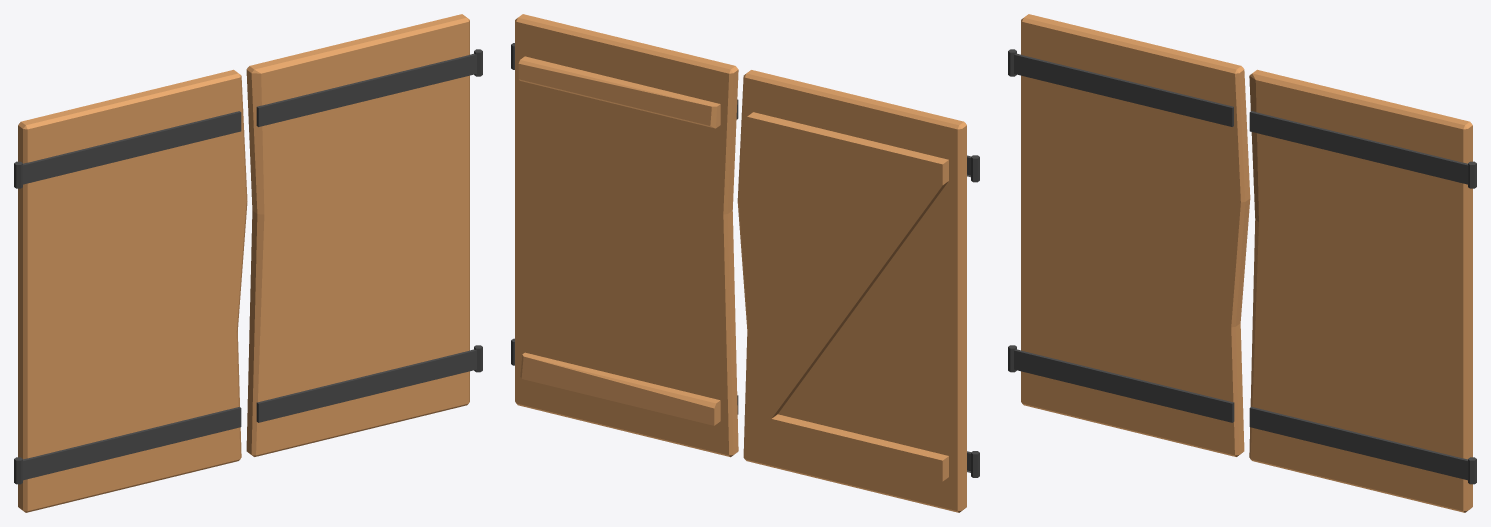
The model's file is Window_cover_large.fbx.
3 views of the same model, side by side, from view 1: azimuth 30°, elevation 25°; view 2: azimuth 150°, elevation 25°; view 3: azimuth 330°, elevation 25° (orthographic).
Parts seen in each view (by area): view 1: Window_cover_large_1_low, Window_cover_large_2_low; view 2: Window_cover_large_1_low, Window_cover_large_2_low; view 3: Window_cover_large_1_low, Window_cover_large_2_low.
Part boxes in pixels (bbox=[...]): Window_cover_large_1_low: bbox=[14, 69, 247, 512]; Window_cover_large_2_low: bbox=[246, 14, 482, 456]; Window_cover_large_1_low: bbox=[737, 70, 979, 512]; Window_cover_large_2_low: bbox=[511, 14, 738, 457]; Window_cover_large_1_low: bbox=[1008, 14, 1250, 456]; Window_cover_large_2_low: bbox=[1249, 69, 1476, 512].
Bounding box in the file's own units: 249 × 197 × 15.77.
